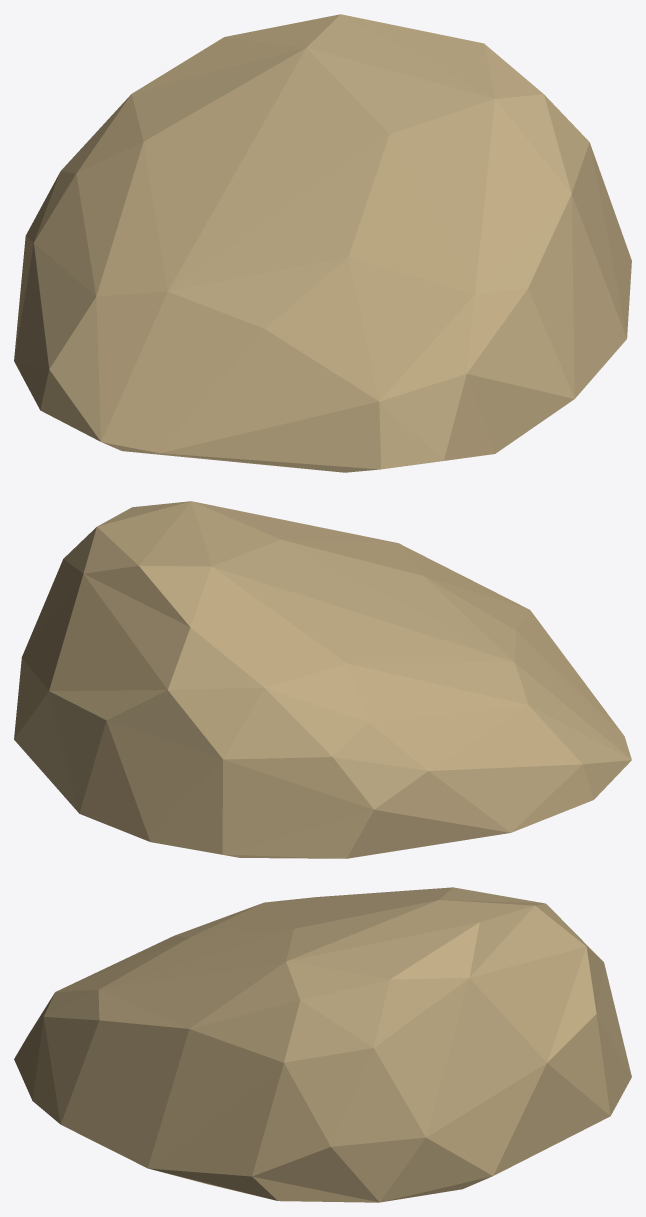
Rendered from Roca-2.FBX.
3 views of the same model, one above another, from view 1: azimuth 30°, elevation 25°; view 2: azimuth 150°, elevation 25°; view 3: azimuth 270°, elevation 25° (orthographic). The views are drawn at different scales.
Visible parts, largest first — view 1: Roca-2; view 2: Roca-2; view 3: Roca-2.
Boxes of the visible parts, <box> form: Roca-2: <box>14,14,631,472</box>; Roca-2: <box>14,501,631,858</box>; Roca-2: <box>14,887,631,1202</box>.
Bounding box in the file's own units: 144 × 63.68 × 147.
Materials: 1 (1 with a texture image).
